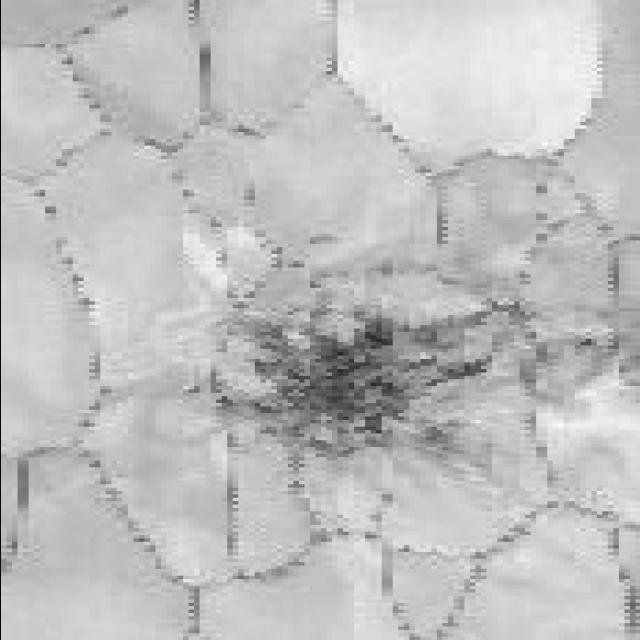good_void: (232, 301, 500, 461)
